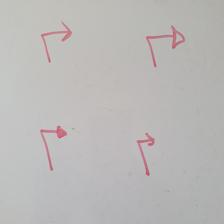promoter: (144, 26, 185, 68), (39, 21, 72, 64), (39, 125, 67, 172), (135, 132, 155, 176)
